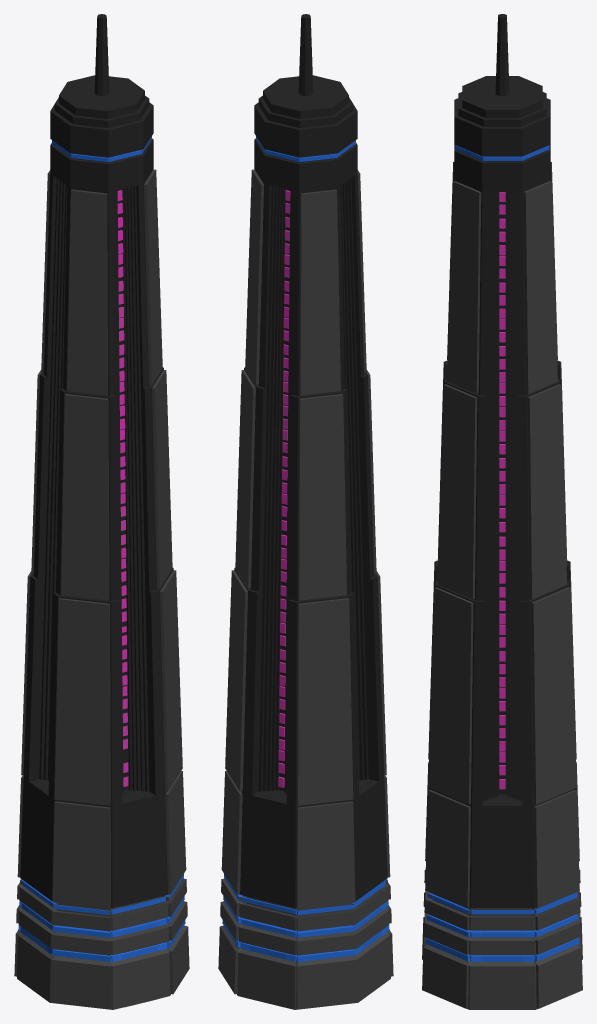
The model's file is Building5.fbx.
The picture shows the model from 3 angles, left to right: view 1: azimuth 30°, elevation 25°; view 2: azimuth 150°, elevation 25°; view 3: azimuth 270°, elevation 25°; orthographic projection.
Parts seen in each view (by area): view 1: Edificio1, VentanasEdificio1; view 2: Edificio1, VentanasEdificio1; view 3: Edificio1, VentanasEdificio1.
Boxes of the visible parts, bbox=[...] form: Edificio1: bbox=[14, 14, 189, 1009]; VentanasEdificio1: bbox=[117, 190, 128, 786]; Edificio1: bbox=[218, 14, 393, 1009]; VentanasEdificio1: bbox=[278, 190, 290, 787]; Edificio1: bbox=[422, 14, 582, 1009]; VentanasEdificio1: bbox=[499, 192, 505, 789].
Size of the model in its own units: 6028 by 39709 by 6028.
